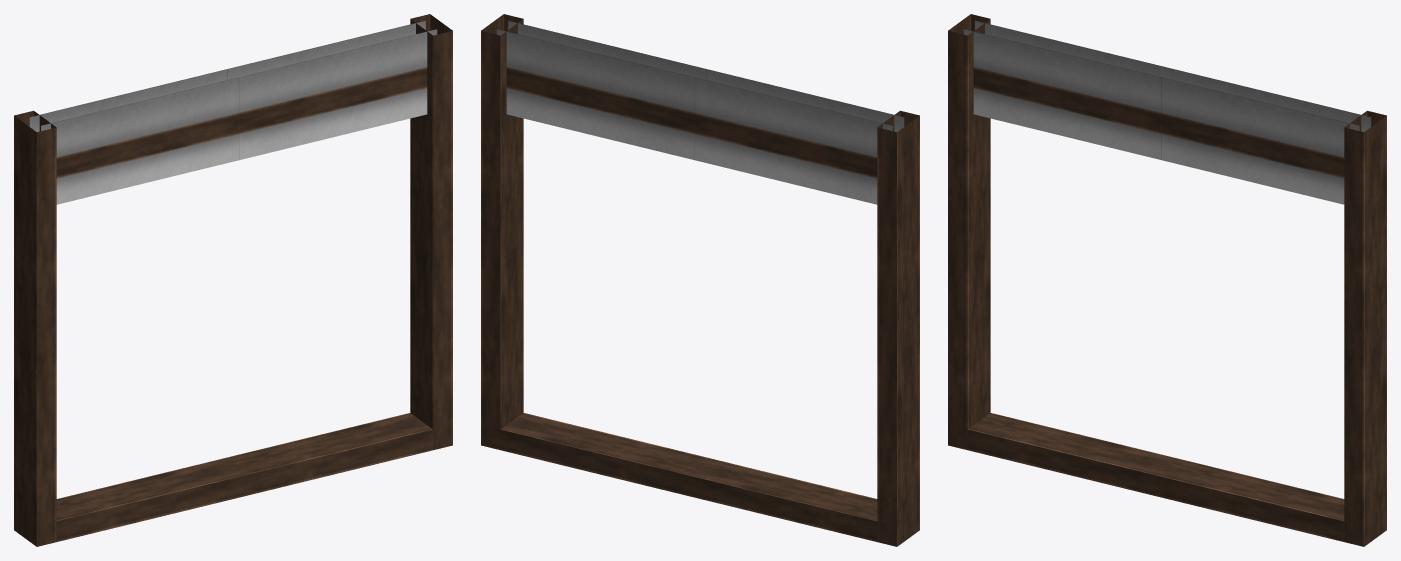
File: house_passage_4x4.fbx
3 renders of one model, left to right at view 1: azimuth 30°, elevation 25°; view 2: azimuth 150°, elevation 25°; view 3: azimuth 330°, elevation 25°, orthographic.
Visible parts, largest first — view 1: house_passage_4x4; view 2: house_passage_4x4; view 3: house_passage_4x4.
Part boxes in pixels (bbox=[...]): house_passage_4x4: bbox=[14, 14, 452, 546]; house_passage_4x4: bbox=[481, 14, 919, 546]; house_passage_4x4: bbox=[948, 14, 1386, 546].
Size of the model in its own units: 420 by 400 by 40.
